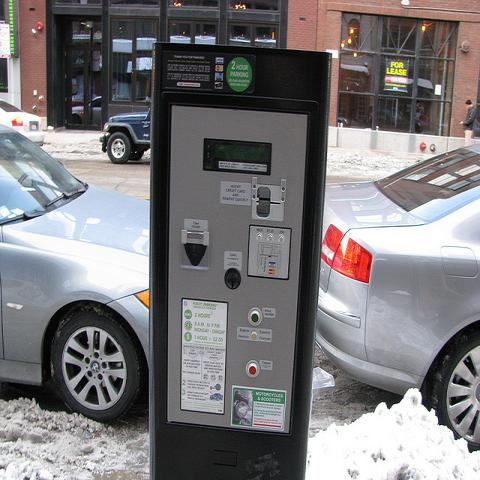car: (316, 140, 479, 452), (0, 124, 151, 425), (0, 97, 46, 147)
truck: (99, 96, 151, 163)
